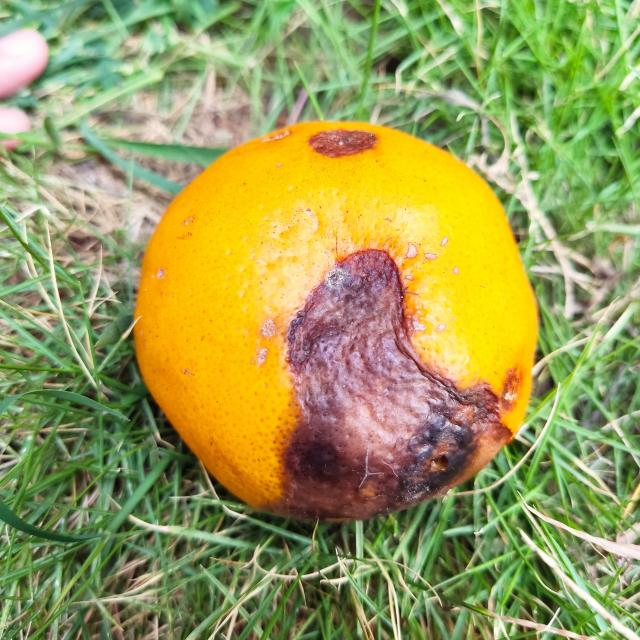orange: (135, 117, 542, 516)
